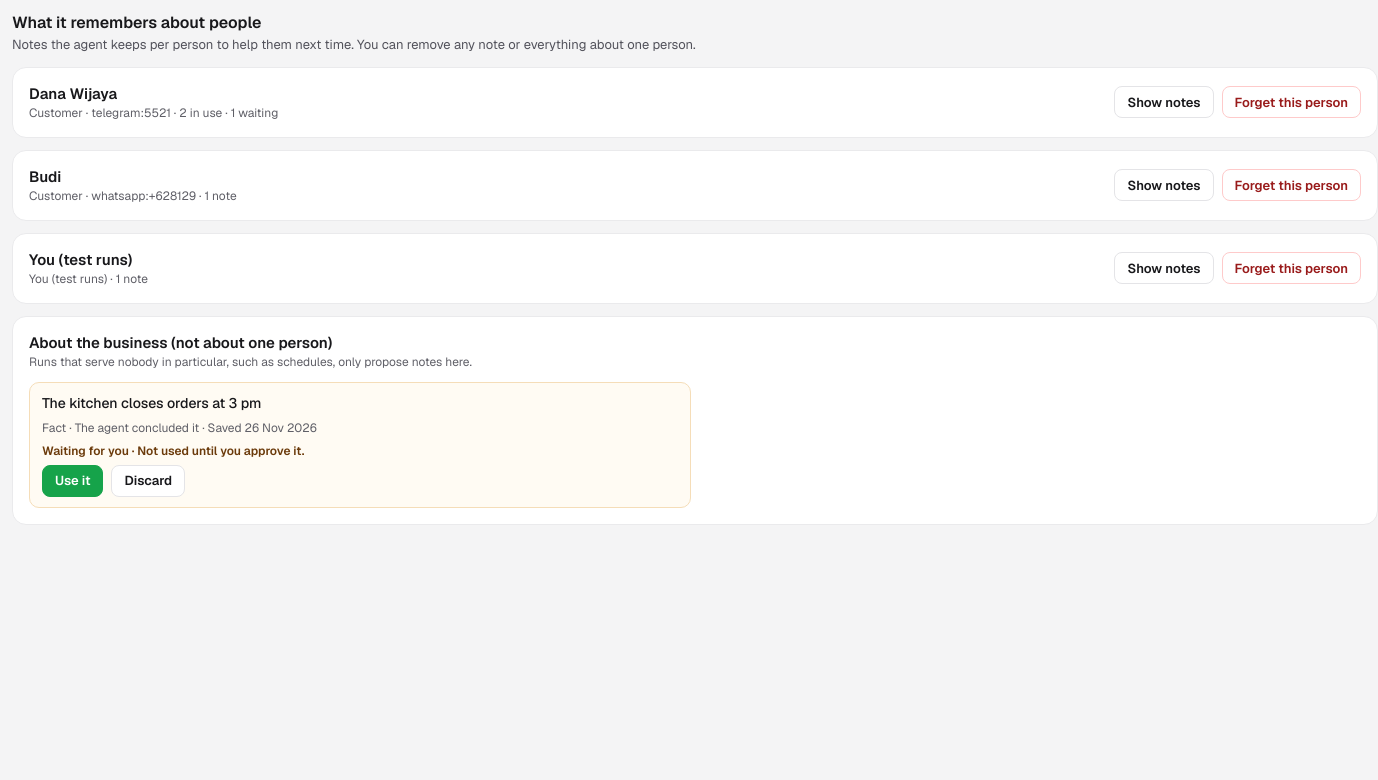
MemoryPanel › forgets a person only after the owner confirms, and says what went
Click the button with aria-label "Forget this person: Dana Wijaya".
click(1291, 102)  # box [1222,86,1361,118]
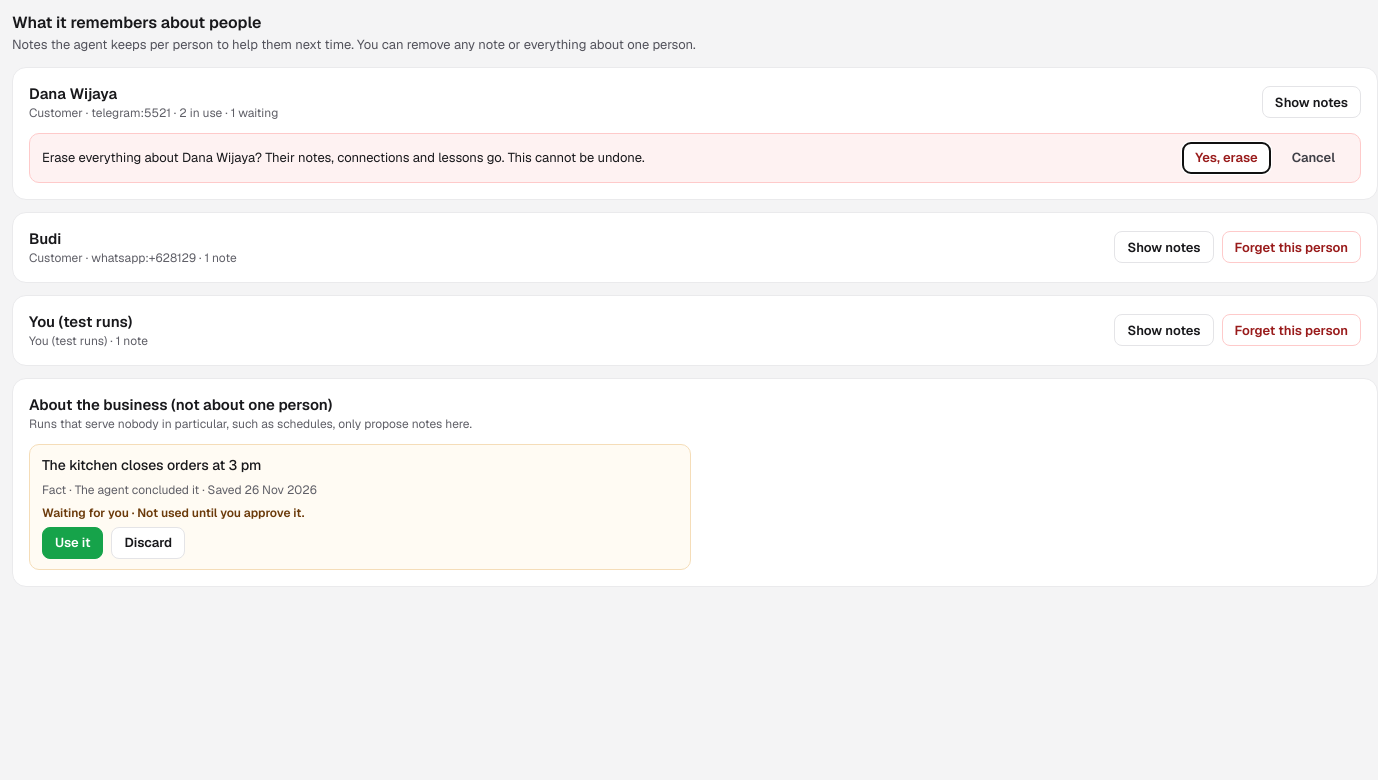
Result: the element named "Erase everything about Dana Wijaya? Their notes, connections" shows "Erase everything about Dana Wijaya?" at [42,149,645,166]
Click the button "Cancel".
click(1313, 158)  # box [1279,142,1348,174]
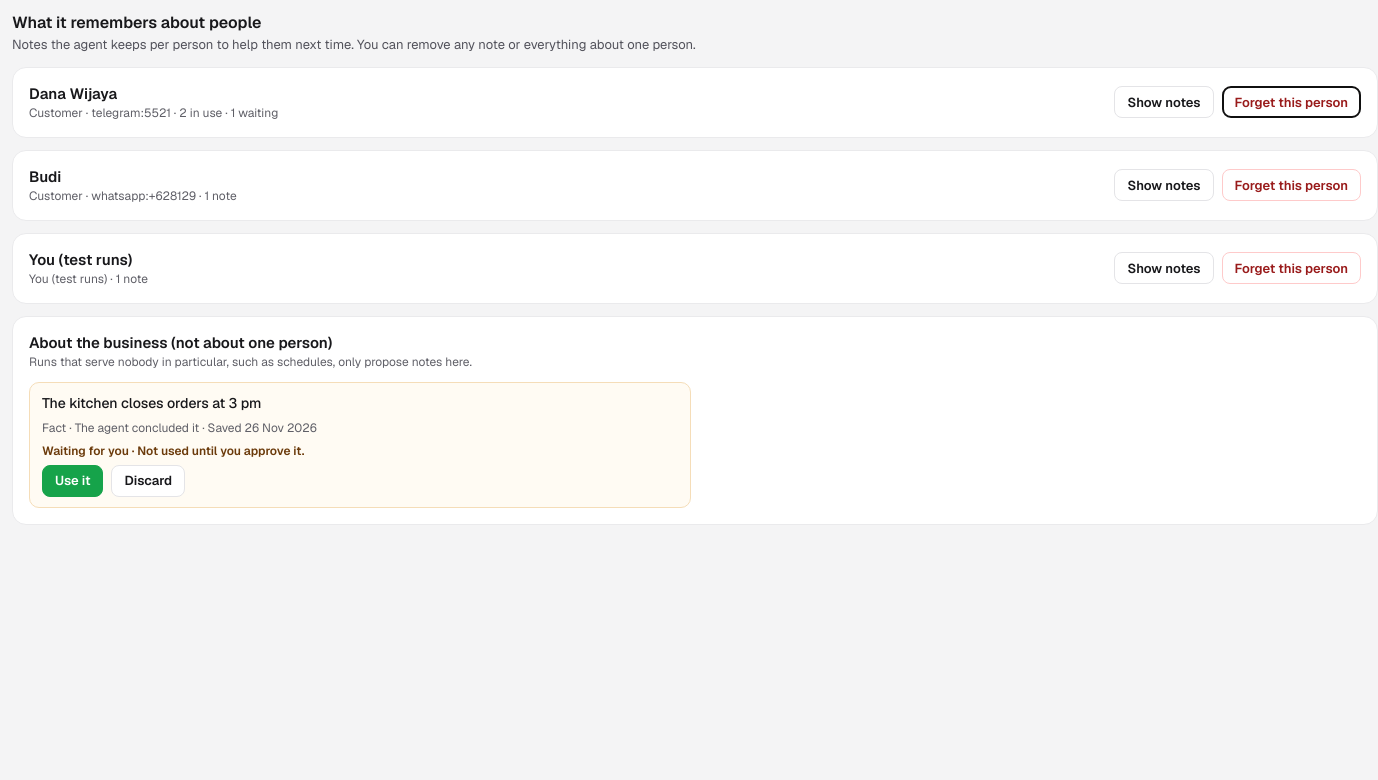
Click the button with aria-label "Forget this person: Dana Wijaya".
click(1291, 102)  # box [1222,86,1361,118]
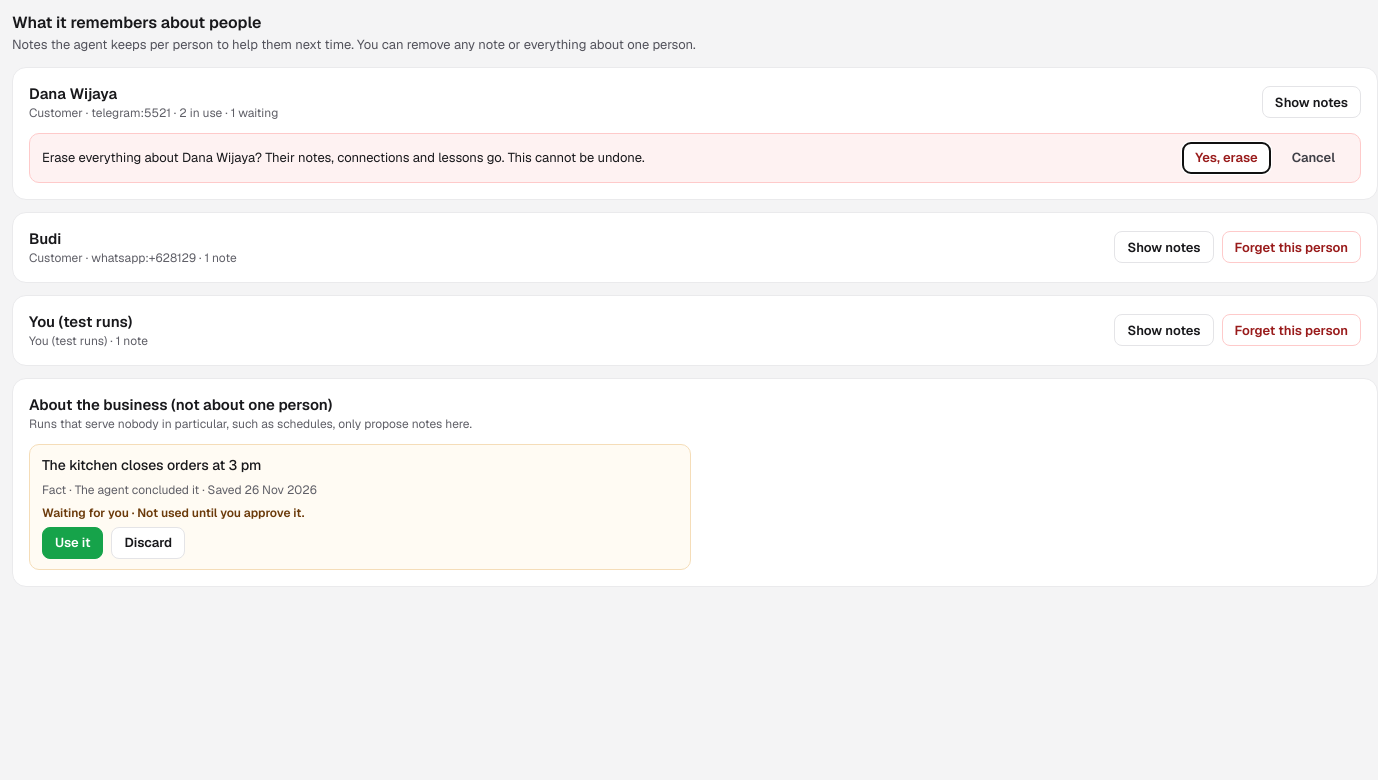
Click the button "Yes, erase".
click(1226, 158)  # box [1182,142,1271,174]
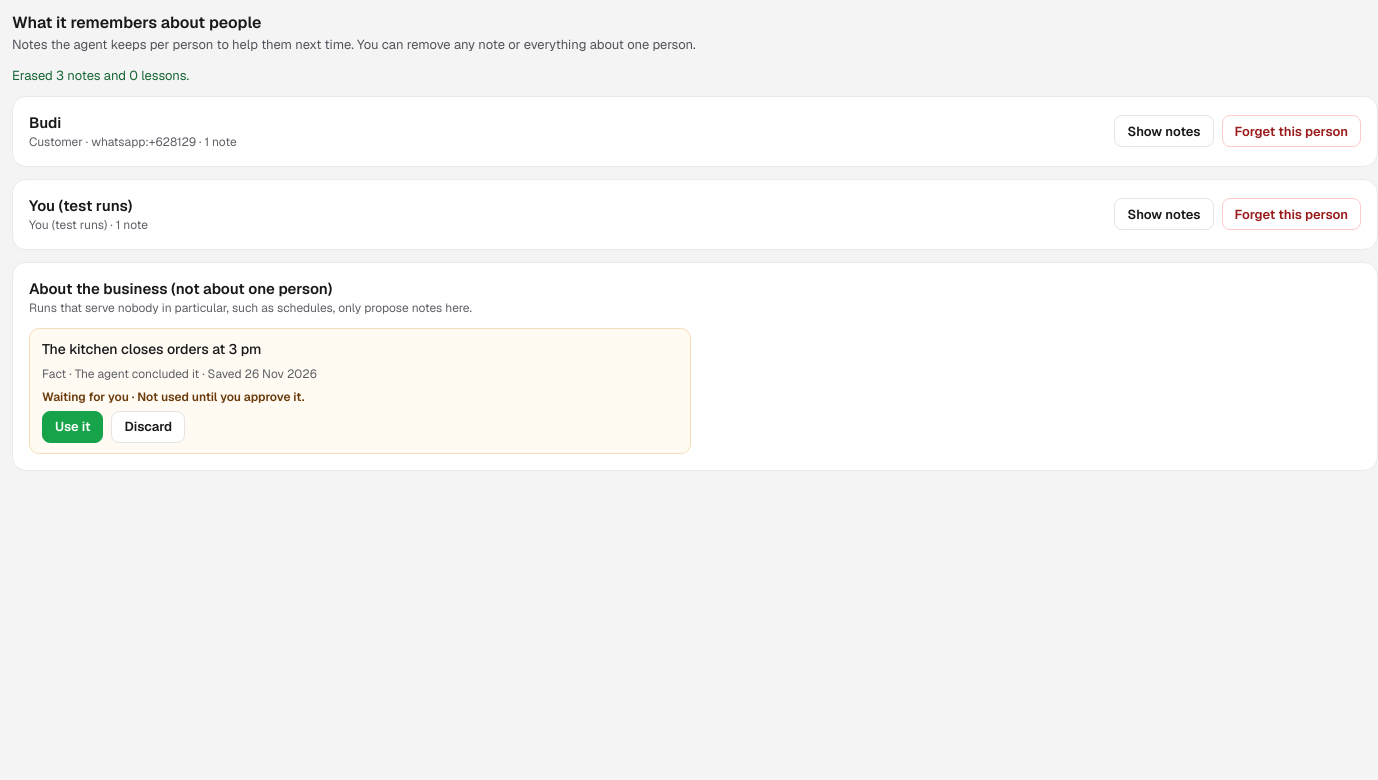
Result: the message reads "Erased 3 notes and 0 lessons." at [12,66,189,84]
Result: the text "Dana Wijaya" is gone
